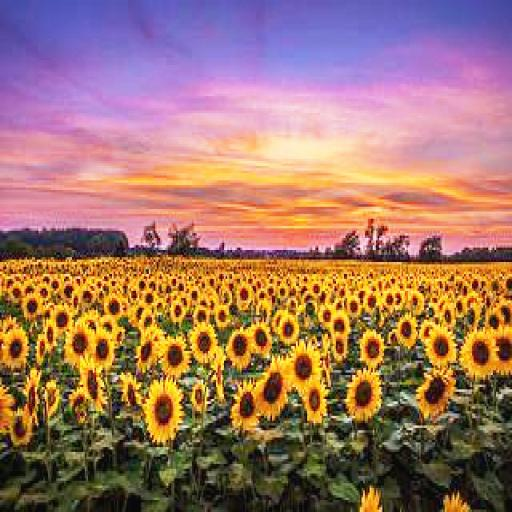sunflower: (144, 375, 181, 442), (256, 358, 291, 418), (416, 368, 456, 418), (460, 330, 498, 378), (346, 368, 380, 420), (290, 344, 322, 389), (229, 384, 259, 432), (82, 363, 108, 416), (426, 327, 456, 368), (155, 337, 187, 375), (64, 324, 94, 363), (2, 325, 28, 370), (489, 327, 512, 375), (188, 324, 218, 360), (133, 327, 157, 372), (226, 329, 252, 368), (24, 368, 42, 423), (304, 382, 328, 423), (10, 404, 34, 445), (211, 344, 227, 399), (250, 322, 274, 358), (93, 332, 117, 368), (396, 312, 418, 348), (360, 332, 384, 365), (50, 303, 72, 332), (328, 310, 350, 339), (189, 380, 208, 411), (278, 315, 298, 341), (331, 334, 347, 361)
